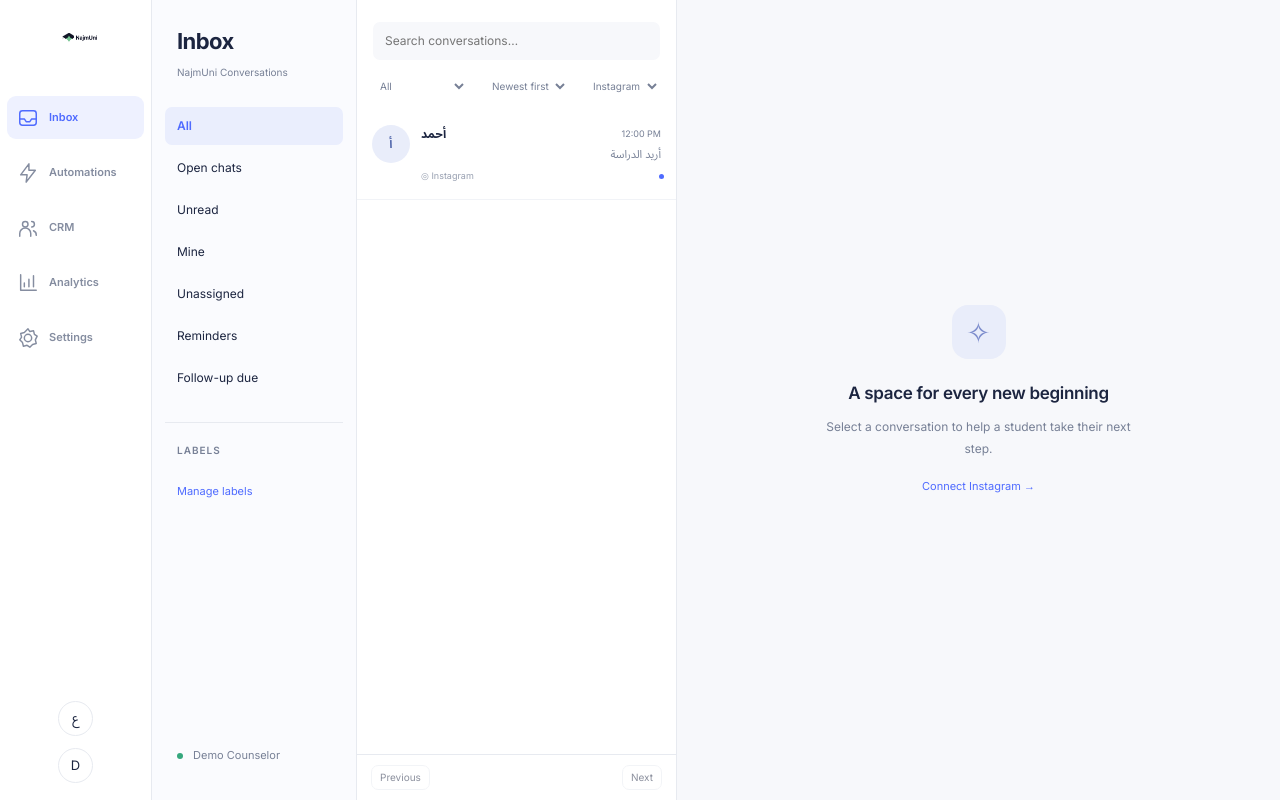
Test: CRM workflows › selects an Arabic conversation and shows contact context
Click the text "أحمد" at (434, 134), box [421, 125, 446, 143]
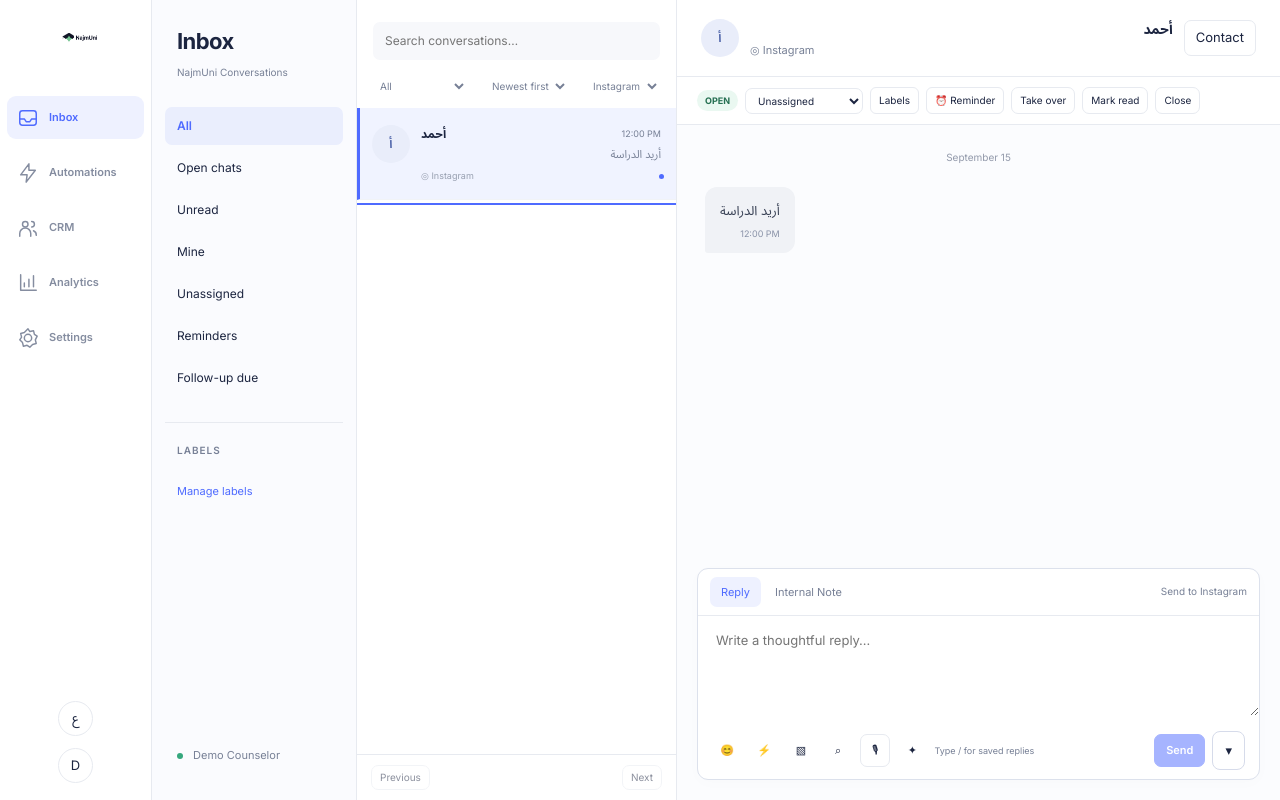
Result: the text box named "Reply message" is shown at [698, 616, 1259, 716]
